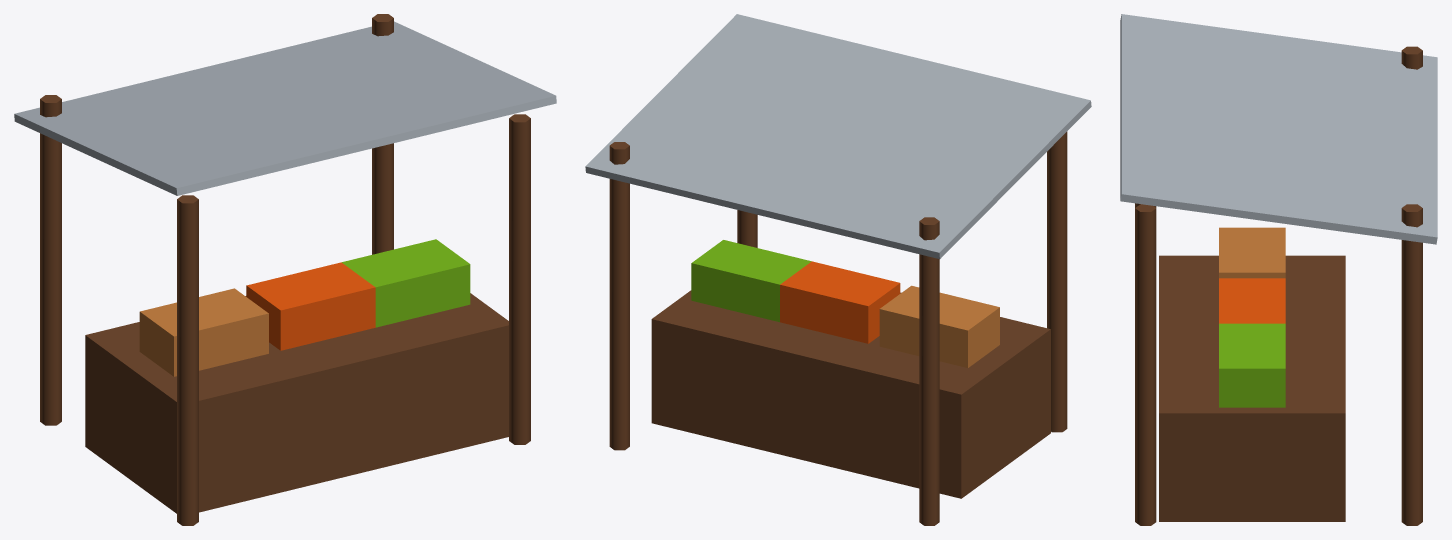
The model's file is market_stall.glb.
3 views of the same model, side by side, from view 1: azimuth 30°, elevation 25°; view 2: azimuth 150°, elevation 25°; view 3: azimuth 270°, elevation 25° (orthographic). The views are drawn at different scales.
Visible parts, largest first — view 1: MarketStall; view 2: MarketStall; view 3: MarketStall.
Part boxes in pixels (bbox=[...]): MarketStall: bbox=[14, 14, 556, 525]; MarketStall: bbox=[585, 14, 1091, 525]; MarketStall: bbox=[1120, 14, 1437, 525].
Size of the model in its own units: 3.2 by 2.81 by 2.38.
